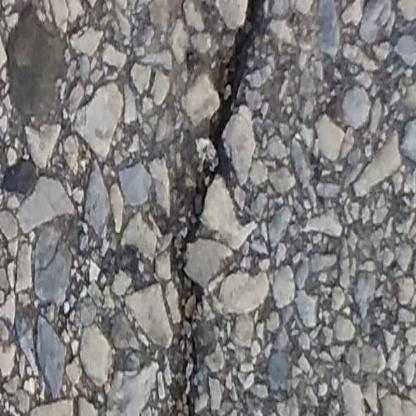Cracks: (170, 0, 266, 416)
